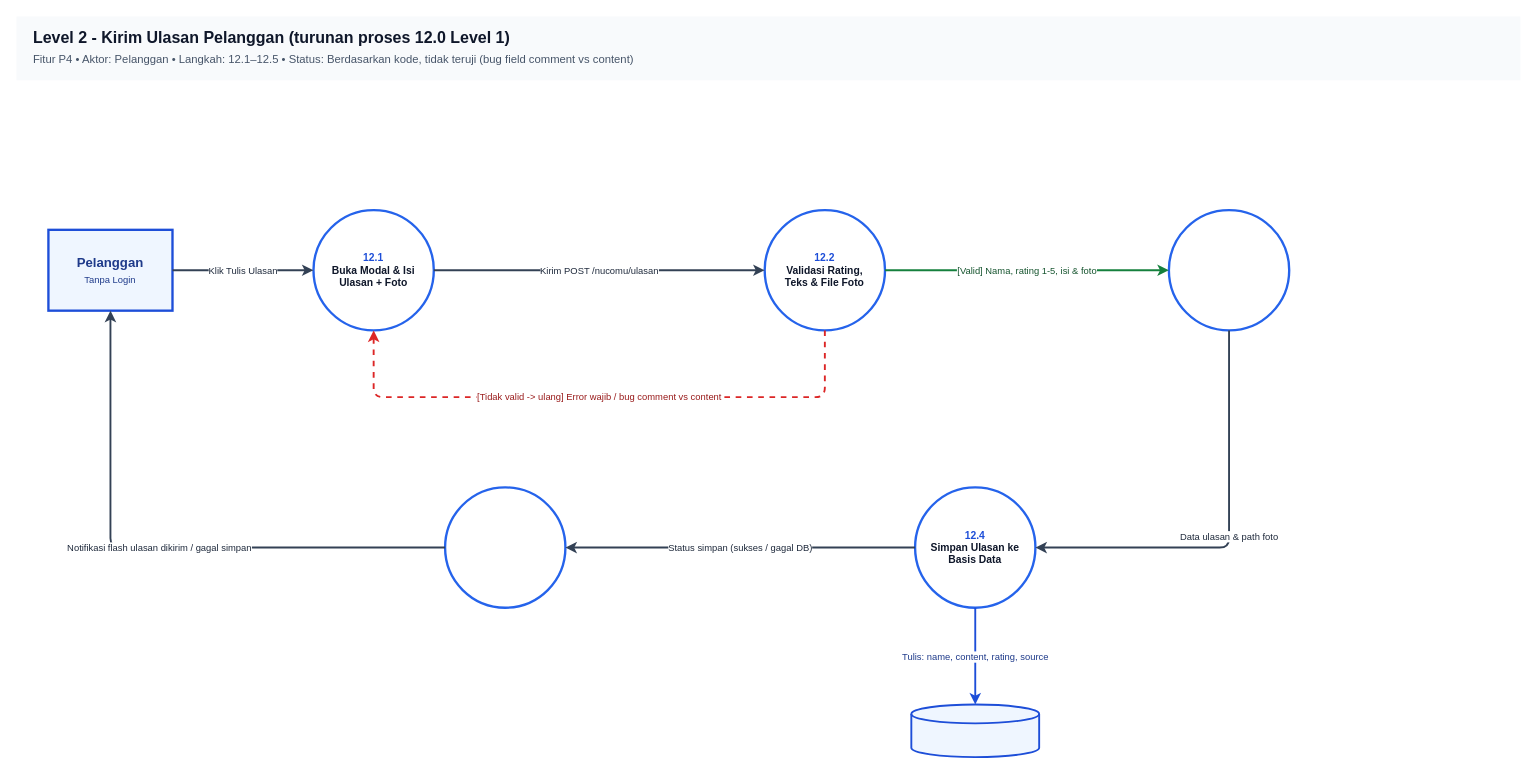
The diagram is 1536 pixels wide and 774 high, and some of its shapes have lost their labels. The shapes that lost their labels are listed below. From the top down, each one's centre as x and y in pixels, then its label:
point 1228,269: 12.3 Unggah File Foto Ulasan
point 504,547: 12.5 Tampilkan Notifikasi Hasil
point 975,730: D13 testimonials
